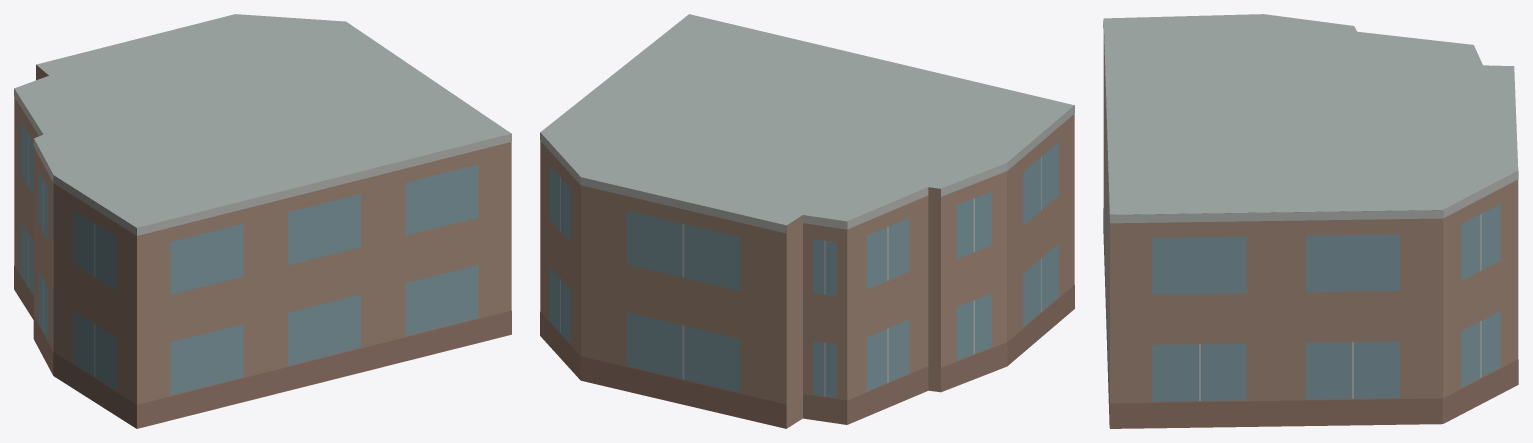
Rendered from survey-upis-32657891.glb.
3 views of the same model, side by side, from view 1: azimuth 30°, elevation 25°; view 2: azimuth 150°, elevation 25°; view 3: azimuth 270°, elevation 25° (orthographic). The views are drawn at different scales.
Visible parts, largest first — view 1: survey-upis-32657891.tmp; view 2: survey-upis-32657891.tmp; view 3: survey-upis-32657891.tmp.
Part boxes in pixels (left/top/right/bottom): survey-upis-32657891.tmp: left=14, top=14, right=511, bottom=428; survey-upis-32657891.tmp: left=540, top=14, right=1074, bottom=428; survey-upis-32657891.tmp: left=1103, top=14, right=1518, bottom=428.
Bounding box in the file's own units: 12.28 × 6.1 × 10.72.
